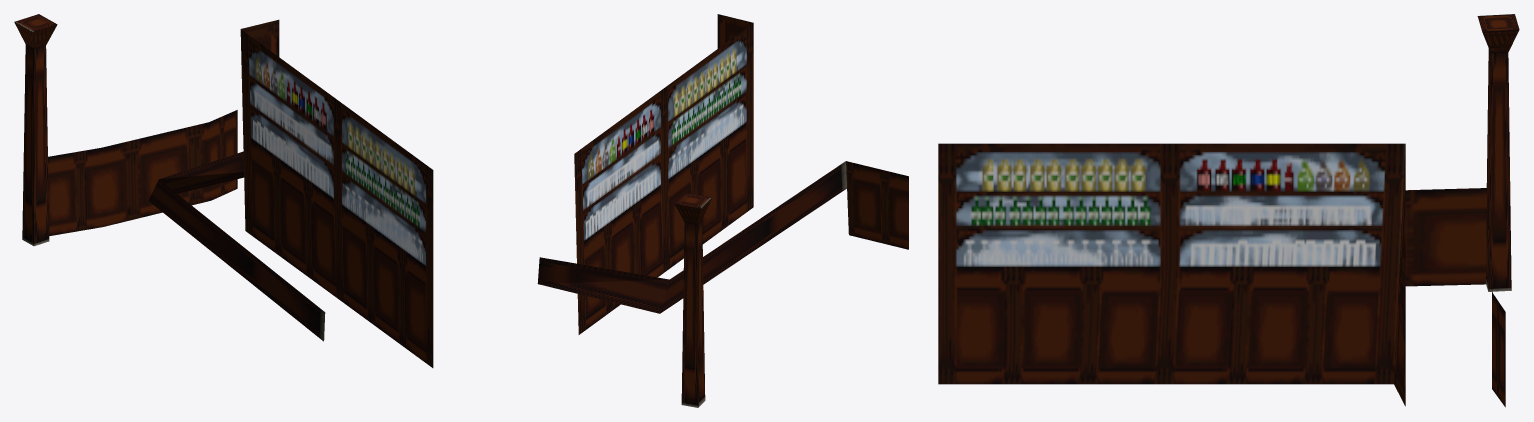
Rendered from Bar_2078.glb.
3 views of the same model, side by side, from view 1: azimuth 30°, elevation 25°; view 2: azimuth 150°, elevation 25°; view 3: azimuth 270°, elevation 25° (orthographic). The views are drawn at different scales.
Parts seen in each view (by area): view 1: pPlaneShape89, pPlaneShape86, pPlaneShape85, pCylinderShape153, pPlaneShape87, pPlaneShape90; view 2: pPlaneShape89, pPlaneShape85, pPlaneShape86, pCylinderShape153, pPlaneShape87, pPlaneShape90; view 3: pPlaneShape89, pPlaneShape86, pCylinderShape153, pPlaneShape87, pPlaneShape90.
Part boxes in pixels (x1=…): pPlaneShape89: x1=240, y1=29, x2=433, y2=367; pPlaneShape86: x1=48, y1=110, x2=237, y2=235; pPlaneShape85: x1=148, y1=151, x2=325, y2=341; pCylinderShape153: x1=14, y1=22, x2=56, y2=246; pPlaneShape87: x1=241, y1=19, x2=279, y2=56; pPlaneShape90: x1=14, y1=14, x2=57, y2=32; pPlaneShape89: x1=574, y1=23, x2=753, y2=334; pPlaneShape85: x1=537, y1=161, x2=846, y2=313; pPlaneShape86: x1=846, y1=161, x2=908, y2=249; pCylinderShape153: x1=674, y1=198, x2=711, y2=407; pPlaneShape87: x1=717, y1=14, x2=752, y2=48; pPlaneShape90: x1=675, y1=192, x2=711, y2=208; pPlaneShape89: x1=938, y1=143, x2=1405, y2=384; pPlaneShape86: x1=1405, y1=188, x2=1505, y2=407; pCylinderShape153: x1=1482, y1=29, x2=1519, y2=291; pPlaneShape87: x1=1394, y1=147, x2=1405, y2=406; pPlaneShape90: x1=1477, y1=14, x2=1519, y2=31.
Bounding box in the file's own units: 0.407 × 0.3836 × 0.7657.
Materials: 7 (7 with a texture image).
